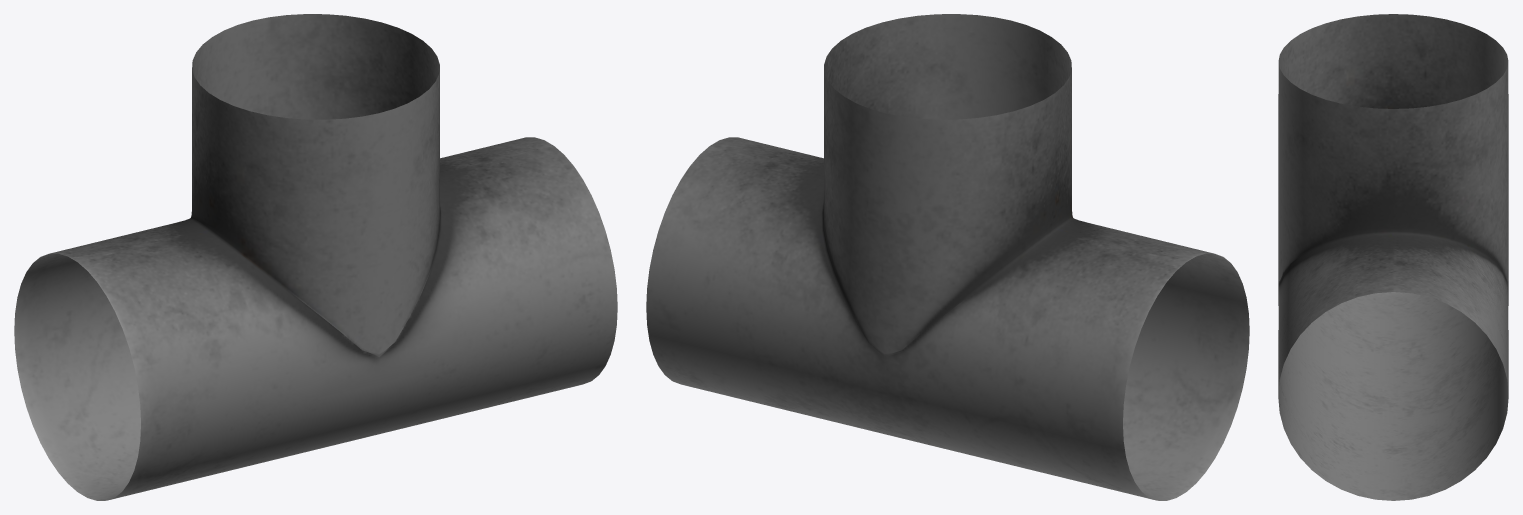
Rendered from TuboT.glb.
3 views of the same model, side by side, from view 1: azimuth 30°, elevation 25°; view 2: azimuth 150°, elevation 25°; view 3: azimuth 270°, elevation 25° (orthographic). The views are drawn at different scales.
Visible parts, largest first — view 1: pipe_t; view 2: pipe_t; view 3: pipe_t.
Part boxes in pixels (x1,y1,x2,y2): pipe_t: [14, 14, 617, 500]; pipe_t: [646, 14, 1249, 500]; pipe_t: [1278, 14, 1508, 500].
Size of the model in its own units: 0.0429 by 0.0316 by 0.0197.
1 material, 1 textured.
